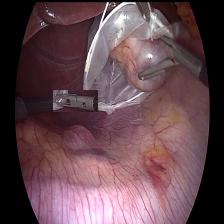Grasper: (135, 35, 197, 81), (52, 89, 97, 111)
Specimen Bag: (80, 0, 179, 119)
